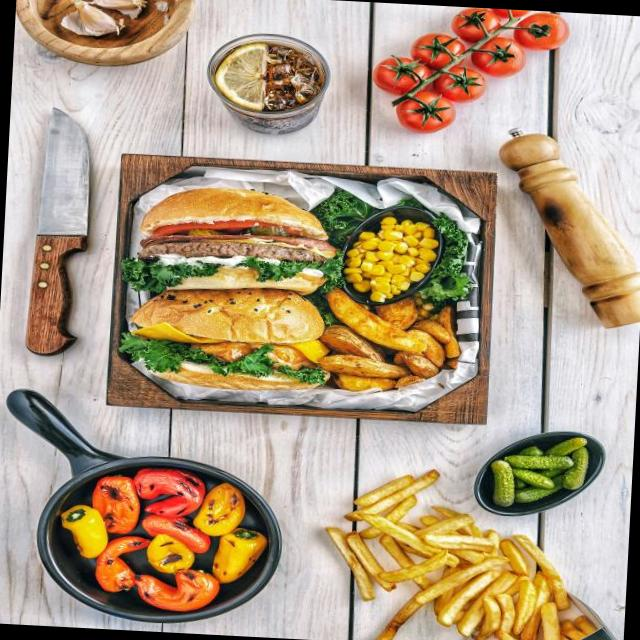Knife: (25, 108, 91, 356)
